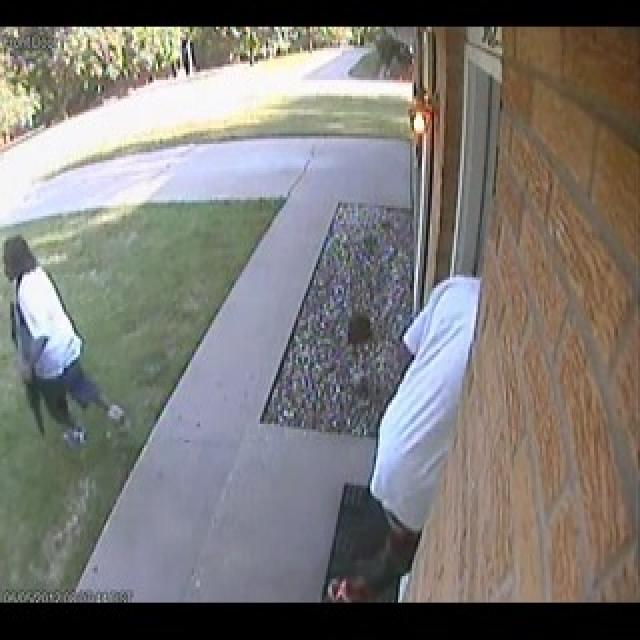burglary: (372, 252, 498, 597)
thief: (2, 224, 101, 458)
